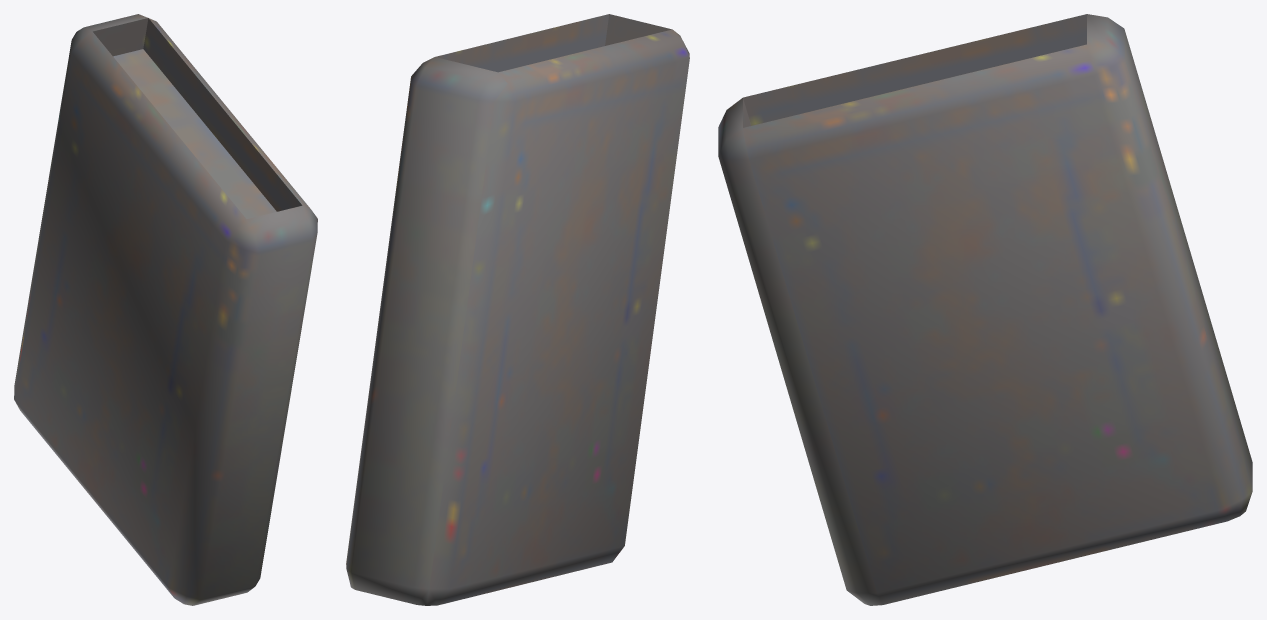
File: mag5.obj
The picture shows the model from 3 angles, left to right: view 1: azimuth 30°, elevation 25°; view 2: azimuth 150°, elevation 25°; view 3: azimuth 270°, elevation 25°; orthographic projection. The views are drawn at different scales.
Visible parts, largest first — view 1: mag5; view 2: mag5; view 3: mag5.
Part boxes in pixels (x1,y1,x2,y2): mag5: [14, 14, 317, 605]; mag5: [346, 14, 689, 605]; mag5: [718, 14, 1252, 605].
Bounding box in the file's own units: 3.36 × 17.51 × 15.14.
